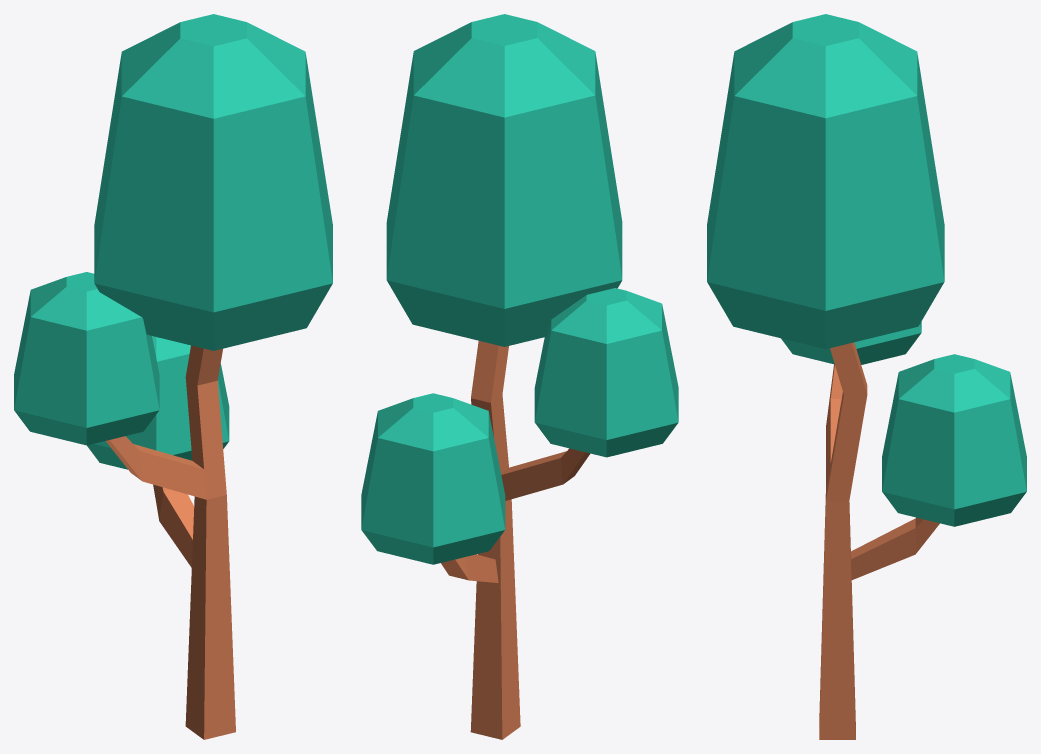
The model's file is tree_thin.obj.
The picture shows the model from 3 angles, left to right: view 1: azimuth 30°, elevation 25°; view 2: azimuth 150°, elevation 25°; view 3: azimuth 270°, elevation 25°; orthographic projection.
Visible parts, largest first — view 1: tree_thin; view 2: tree_thin; view 3: tree_thin.
Boxes of the visible parts, x1,y1,x2,y2 form: tree_thin: (14,14,332,739); tree_thin: (361,14,678,739); tree_thin: (707,14,1026,739).
Bounding box in the file's own units: 0.6804 × 1.49 × 0.6165.
